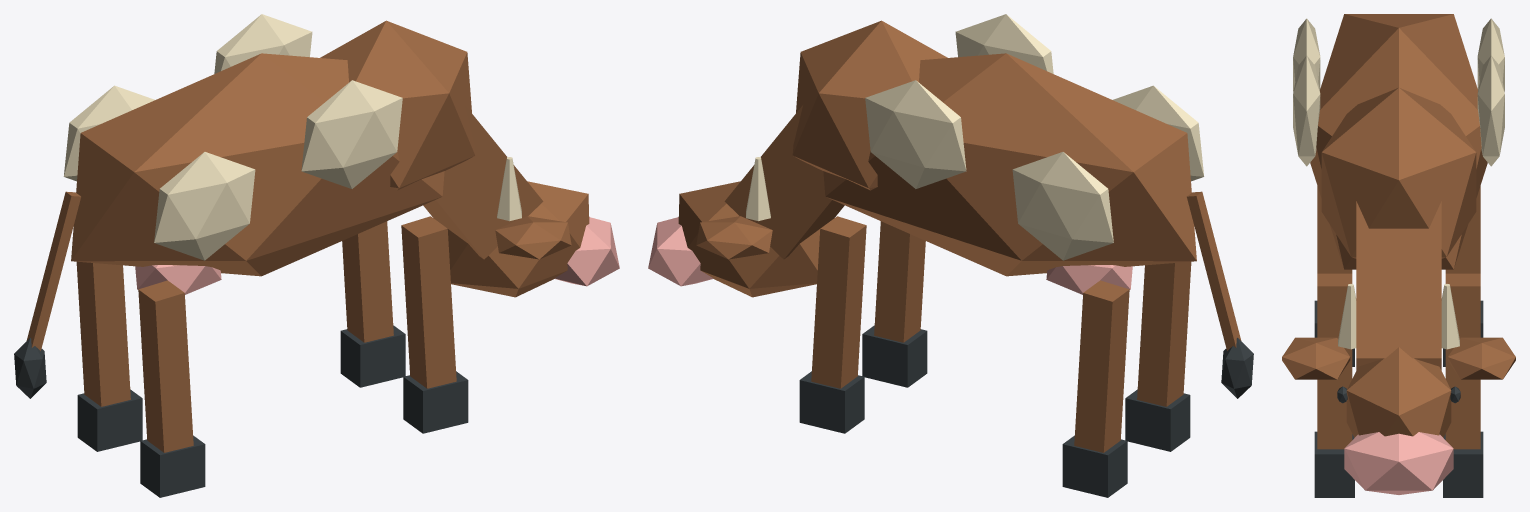
Rendered from TR3_Cow_Brown_Grazing.glb.
3 views of the same model, side by side, from view 1: azimuth 30°, elevation 25°; view 2: azimuth 150°, elevation 25°; view 3: azimuth 270°, elevation 25° (orthographic). The views are drawn at different scales.
Parts seen in each view (by area): view 1: TR3_Cow_Brown_Grazing; view 2: TR3_Cow_Brown_Grazing; view 3: TR3_Cow_Brown_Grazing.
Part boxes in pixels (x1,y1,x2,y2): TR3_Cow_Brown_Grazing: [14, 14, 619, 497]; TR3_Cow_Brown_Grazing: [648, 14, 1253, 497]; TR3_Cow_Brown_Grazing: [1282, 14, 1515, 497].
Bounding box in the file's own units: 2.62 × 1.61 × 0.8752.
